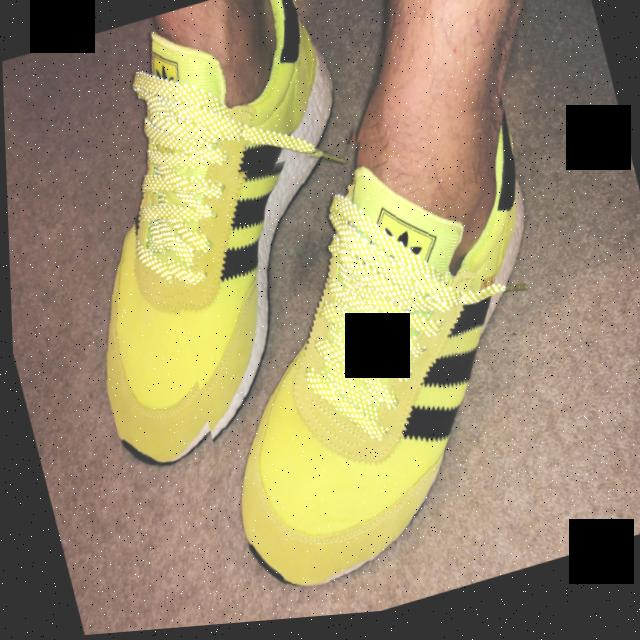shoe: (146, 90, 619, 622), (20, 0, 425, 489)
